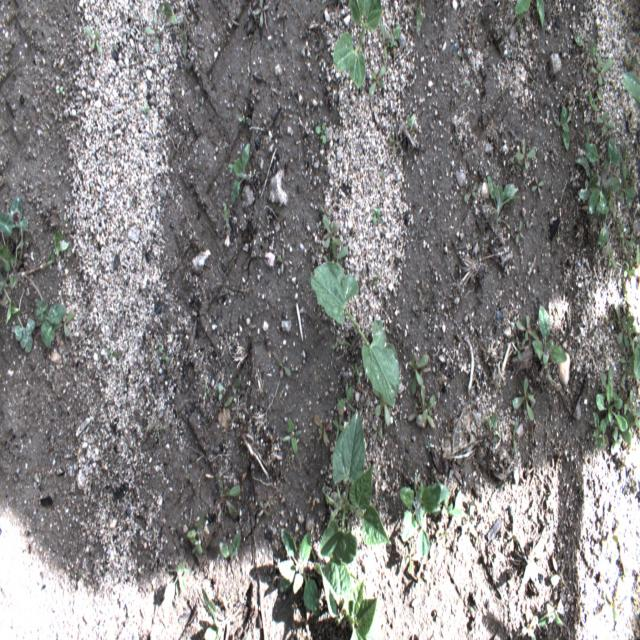crop: (310, 260, 399, 406), (319, 408, 393, 563), (313, 554, 378, 640), (332, 1, 383, 87)
weed: (0, 224, 69, 353), (575, 124, 619, 250), (398, 473, 461, 560), (277, 528, 320, 619), (532, 304, 567, 366), (202, 587, 238, 639), (158, 0, 188, 58), (596, 383, 628, 433), (487, 174, 519, 219), (163, 556, 190, 608), (228, 143, 250, 206), (408, 383, 436, 429), (0, 196, 29, 240), (614, 300, 636, 357), (216, 469, 240, 521), (611, 409, 634, 456), (512, 376, 536, 420), (408, 352, 429, 396), (552, 107, 572, 152), (535, 598, 564, 628), (142, 416, 170, 446), (281, 415, 301, 455), (588, 53, 612, 86), (600, 364, 620, 403), (321, 214, 342, 248), (334, 382, 356, 414), (218, 530, 241, 560), (145, 11, 160, 54), (516, 138, 536, 169), (368, 62, 386, 96), (54, 307, 74, 337), (86, 23, 104, 55), (573, 34, 598, 57), (611, 177, 636, 200), (400, 548, 420, 576), (515, 315, 537, 340), (224, 375, 241, 407), (374, 394, 391, 426), (622, 72, 639, 104), (313, 414, 331, 443), (522, 610, 539, 639), (329, 328, 350, 350), (622, 162, 632, 208), (512, 5, 525, 38), (596, 112, 614, 135), (253, 0, 269, 25), (187, 513, 202, 539), (350, 361, 365, 387), (483, 409, 498, 435), (621, 360, 636, 386), (379, 23, 389, 61), (588, 88, 604, 111), (332, 413, 346, 439), (405, 111, 417, 141), (593, 411, 602, 451), (275, 355, 291, 377), (388, 126, 399, 158), (607, 590, 618, 622), (600, 412, 610, 447), (387, 24, 402, 47), (331, 240, 348, 260), (276, 246, 288, 274), (463, 183, 479, 203), (618, 226, 631, 250), (622, 285, 632, 316), (512, 420, 520, 458), (102, 342, 117, 362), (621, 52, 636, 72), (634, 333, 640, 383), (516, 334, 527, 360), (621, 352, 636, 371), (222, 200, 230, 235), (624, 258, 636, 281), (416, 0, 424, 34), (535, 0, 544, 28), (610, 417, 620, 442), (624, 391, 634, 416), (190, 535, 203, 554), (315, 121, 326, 143), (371, 420, 383, 440), (623, 144, 638, 160), (532, 175, 544, 195), (528, 70, 539, 91), (607, 244, 617, 267), (514, 220, 524, 243), (417, 279, 427, 302), (435, 528, 449, 544), (617, 381, 628, 401), (258, 500, 270, 518), (632, 402, 640, 429), (515, 0, 531, 13), (508, 155, 520, 172), (158, 346, 170, 362), (236, 113, 252, 125), (320, 202, 331, 219), (625, 168, 636, 185), (368, 272, 380, 286), (629, 232, 636, 256), (484, 436, 496, 449), (322, 251, 332, 266), (634, 243, 640, 267), (612, 212, 620, 230), (602, 312, 609, 329), (218, 382, 223, 402), (373, 208, 379, 224), (56, 85, 64, 94), (425, 442, 432, 452), (610, 309, 612, 327)
